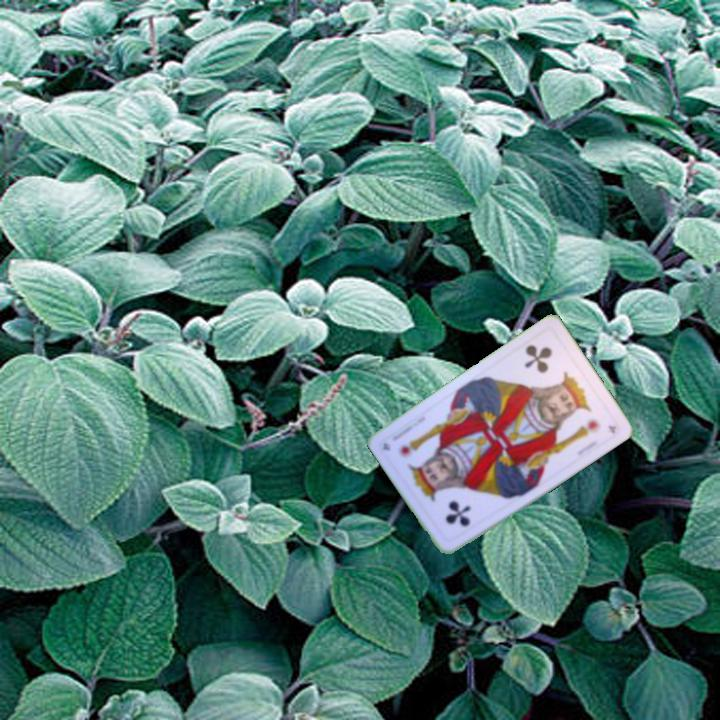c_k.png: (412, 461, 495, 547), (505, 325, 588, 410)
